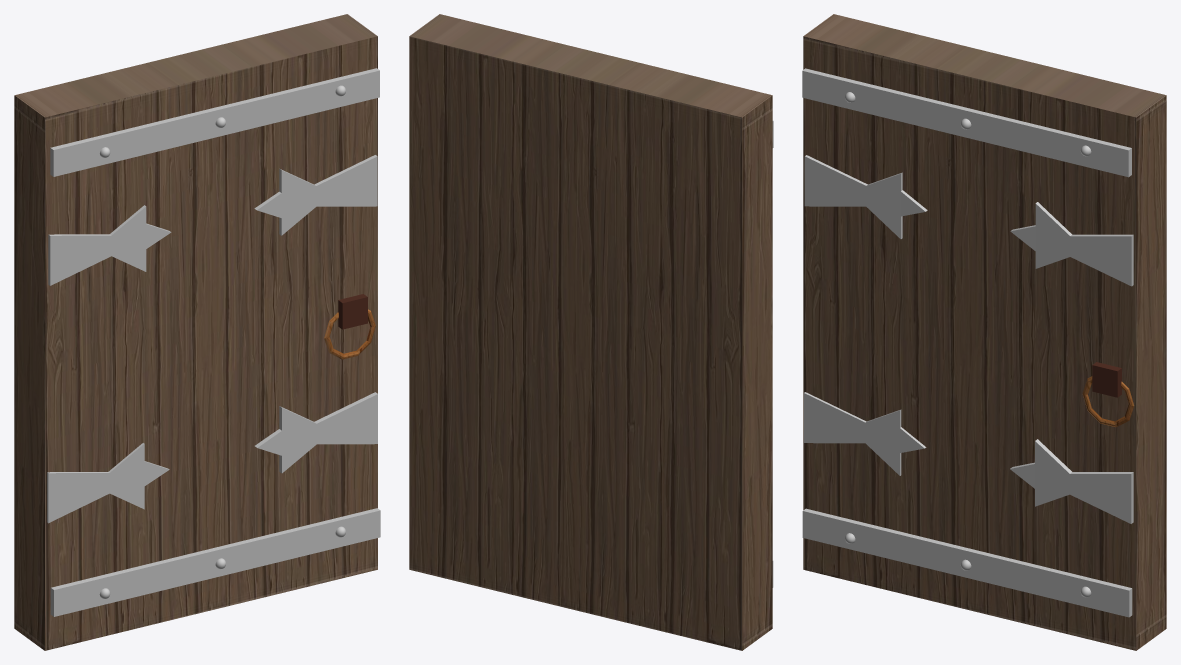
Rendered from pintu1.fbx.
The picture shows the model from 3 angles, left to right: view 1: azimuth 30°, elevation 25°; view 2: azimuth 150°, elevation 25°; view 3: azimuth 330°, elevation 25°; orthographic projection.
Parts seen in each view (by area): view 1: Plane.010, Plane.014, Plane.011, Plane.016, Plane.013, Plane.012, Plane.015, Cube.009, Circle.013; view 2: Plane.010; view 3: Plane.010, Plane.014, Plane.011, Plane.016, Plane.013, Plane.012, Plane.015, Cube.009, Circle.013.
Part boxes in pixels (x1=…): Plane.010: x1=14, y1=14, x2=377, y2=650; Plane.014: x1=50, y1=508, x2=380, y2=616; Plane.011: x1=50, y1=68, x2=379, y2=176; Plane.016: x1=255, y1=392, x2=377, y2=473; Plane.013: x1=254, y1=155, x2=377, y2=235; Plane.012: x1=48, y1=205, x2=171, y2=285; Plane.015: x1=47, y1=443, x2=169, y2=523; Cube.009: x1=338, y1=294, x2=367, y2=329; Circle.013: x1=324, y1=309, x2=375, y2=359; Plane.010: x1=409, y1=14, x2=772, y2=650; Plane.010: x1=803, y1=14, x2=1166, y2=650; Plane.014: x1=802, y1=508, x2=1132, y2=617; Plane.011: x1=802, y1=68, x2=1131, y2=177; Plane.016: x1=1010, y1=439, x2=1133, y2=523; Plane.013: x1=1010, y1=202, x2=1133, y2=286; Plane.012: x1=804, y1=155, x2=927, y2=238; Plane.015: x1=804, y1=392, x2=926, y2=475; Cube.009: x1=1092, y1=362, x2=1121, y2=397; Circle.013: x1=1082, y1=376, x2=1134, y2=427.
Size of the model in its own units: 506 by 775 by 104.
